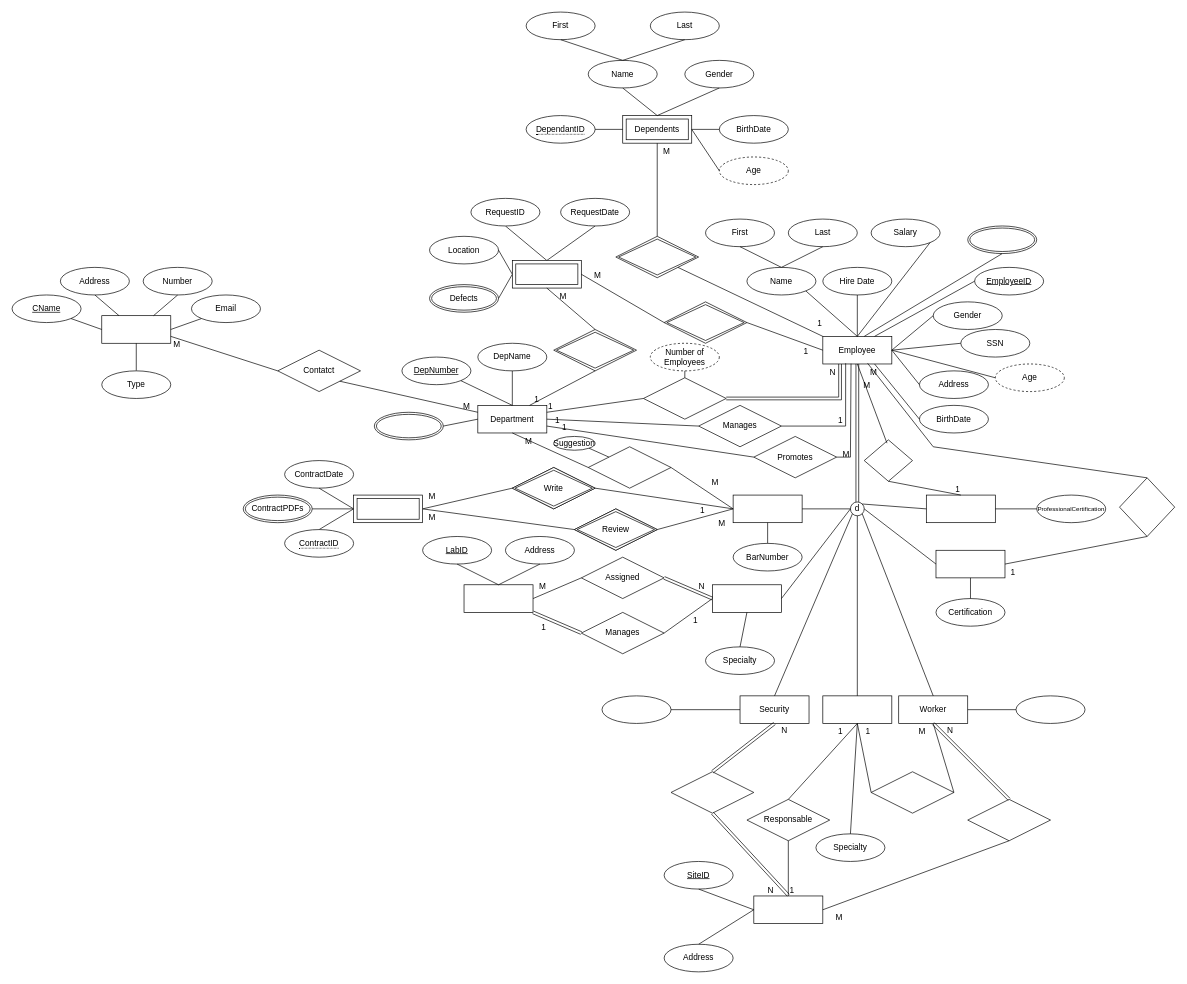
This 1187x984 diagram has some shape labels left out. The centre of each missing label's shape, as x and y in pixels:
Accountant: (970,564)
Competence Level: (1050,709)
Contact Information: (1002,239)
Contract: (388,508)
Depends on: (657,257)
DepLocations: (408,426)
Deploy: (912,792)
Determines Salary: (1147,506)
Engineer: (857,709)
External Company: (136,329)
Hire: (888,460)
HR: (960,508)
Lab: (498,598)
Lab Technicians: (746,598)
Lawyer: (767,508)
Maintenance Requests: (546,274)
Recieve: (595,350)
Secures: (712,792)
SecurityClearanceLevel: (636,709)
Sends: (705,322)
Suggests: (629,467)
Work: (1009,820)
Work Site: (788,909)
Workes at: (684,398)
